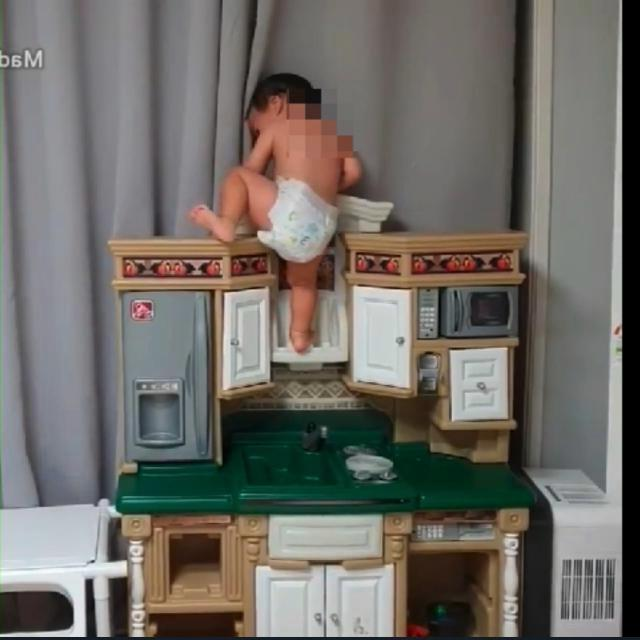child: (187, 64, 365, 358)
